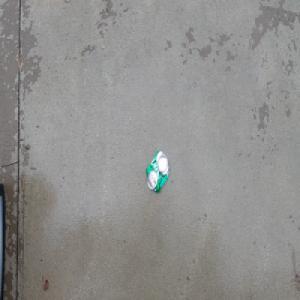SodaCan: (145, 149, 170, 194)
